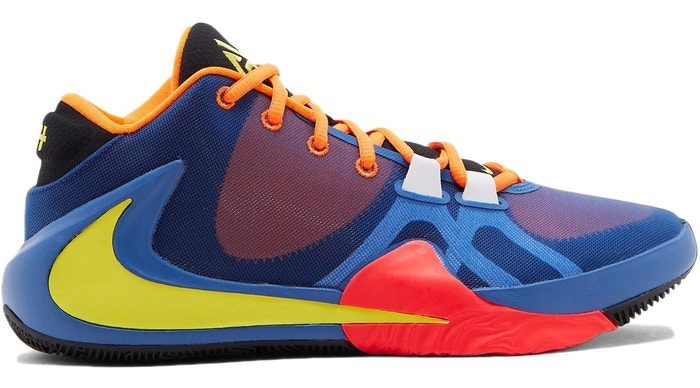shoes: (4, 16, 700, 373)
